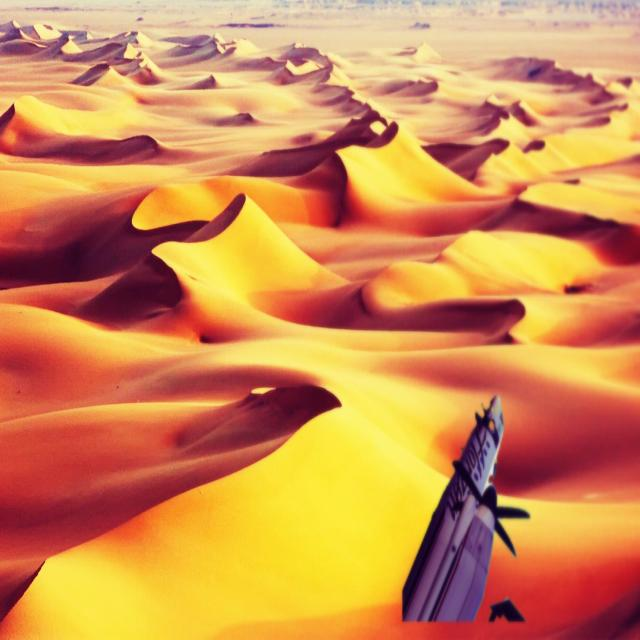airplane: (402, 392, 524, 620)
